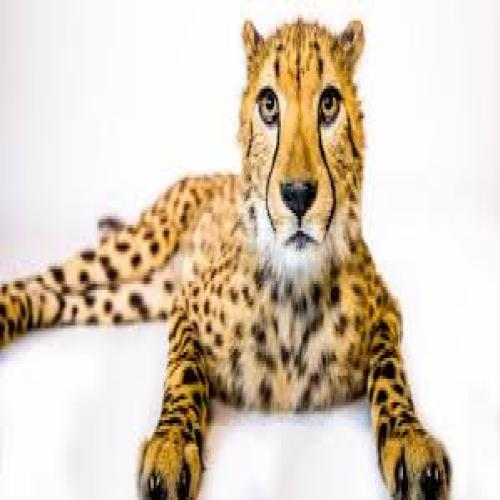cheetah-endangered: (0, 26, 450, 500)
